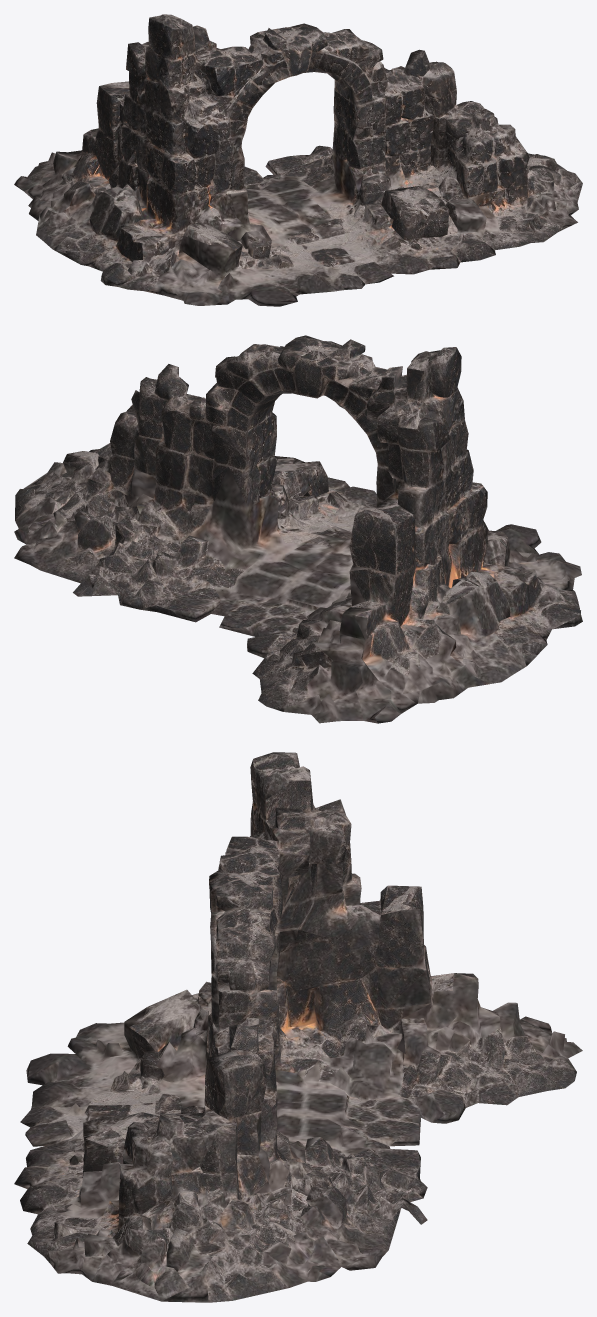
Rendered from ember_ruin.glb.
3 renders of one model, top to bottom at view 1: azimuth 30°, elevation 25°; view 2: azimuth 150°, elevation 25°; view 3: azimuth 270°, elevation 25°, orthographic. The views are drawn at different scales.
Visible parts, largest first — view 1: ember_ruin; view 2: ember_ruin; view 3: ember_ruin.
Boxes of the visible parts, x1=… form: ember_ruin: x1=14, y1=14, x2=582, y2=306; ember_ruin: x1=14, y1=335, x2=582, y2=723; ember_ruin: x1=14, y1=752, x2=582, y2=1302.
Bounding box in the file's own units: 1.89 × 0.8725 × 1.48.
1 material, 1 textured.
